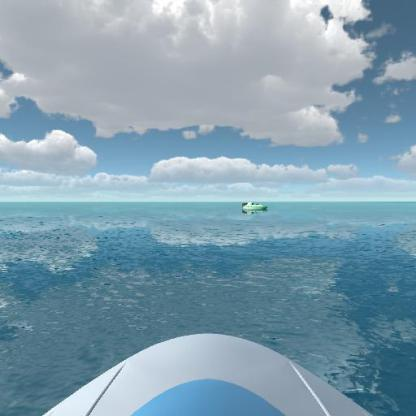usv0: (236, 196, 272, 217)
